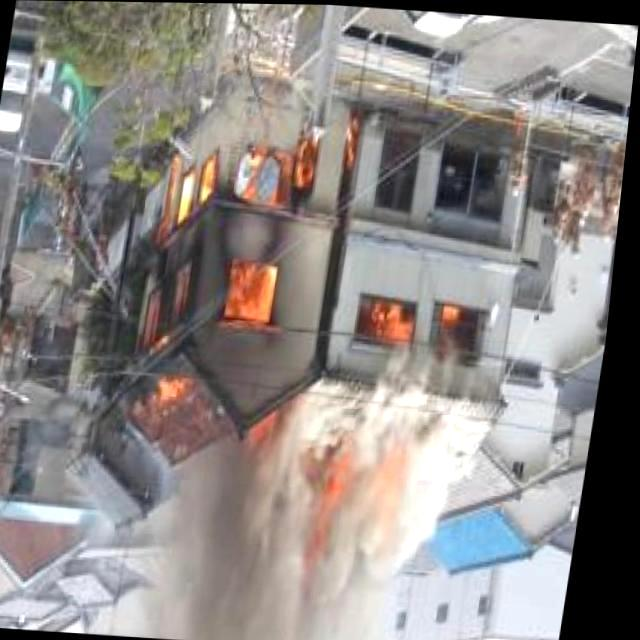fire: (122, 111, 332, 438), (298, 441, 422, 544), (367, 290, 493, 354)
